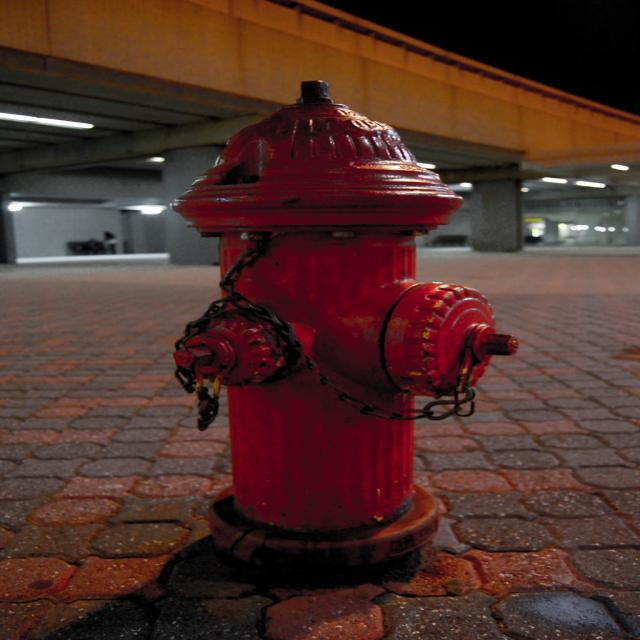fire_hydrant: (174, 81, 516, 584)
